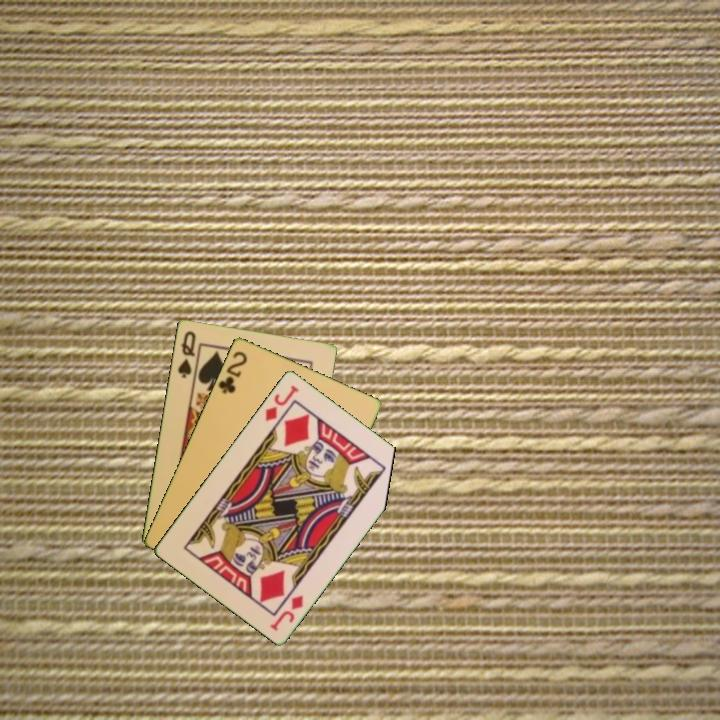2c: (215, 347, 250, 396)
Jd: (261, 381, 301, 424), (266, 591, 306, 633)
Qs: (174, 327, 198, 381)
